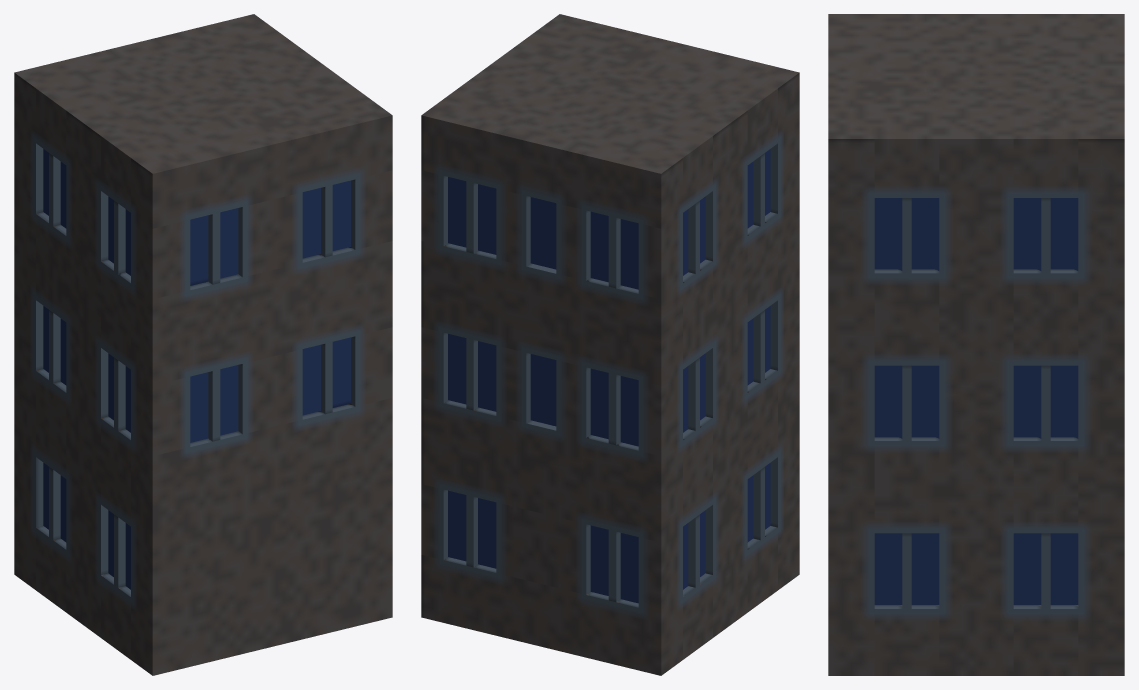
Rendered from B_dz_uni5_2.dae.
3 views of the same model, side by side, from view 1: azimuth 30°, elevation 25°; view 2: azimuth 150°, elevation 25°; view 3: azimuth 270°, elevation 25° (orthographic). The views are drawn at different scales.
Visible parts, largest first — view 1: Content; view 2: Content; view 3: Content.
Boxes of the visible parts, x1,y1,x2,y2 form: Content: [14, 14, 392, 675]; Content: [421, 14, 799, 675]; Content: [828, 14, 1124, 675].
Size of the model in its own units: 32 by 64 by 32.
Materials: 1 (1 with a texture image).
